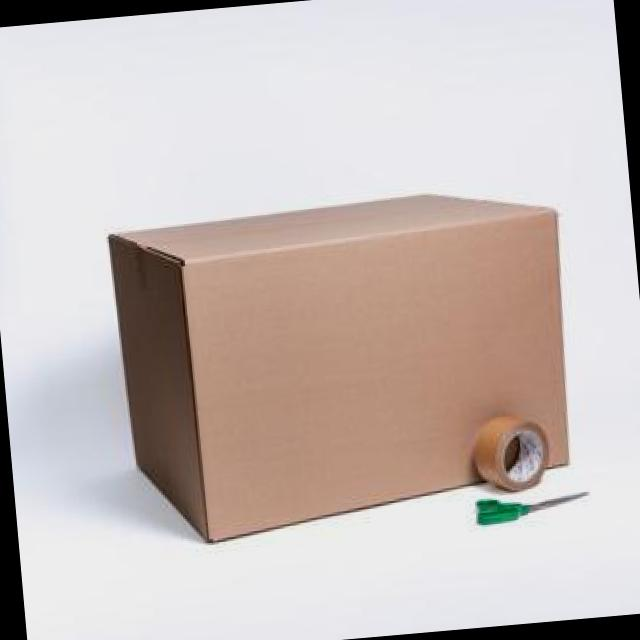Pathole: (106, 184, 578, 550)
